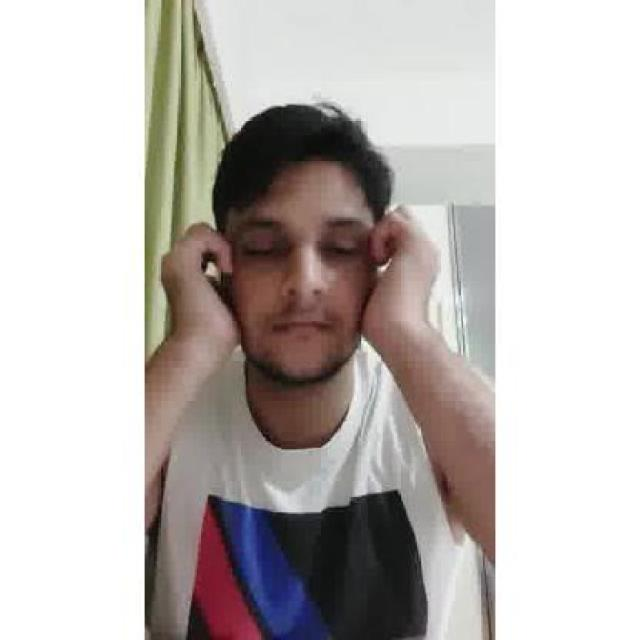inattentif: (217, 104, 377, 384)
